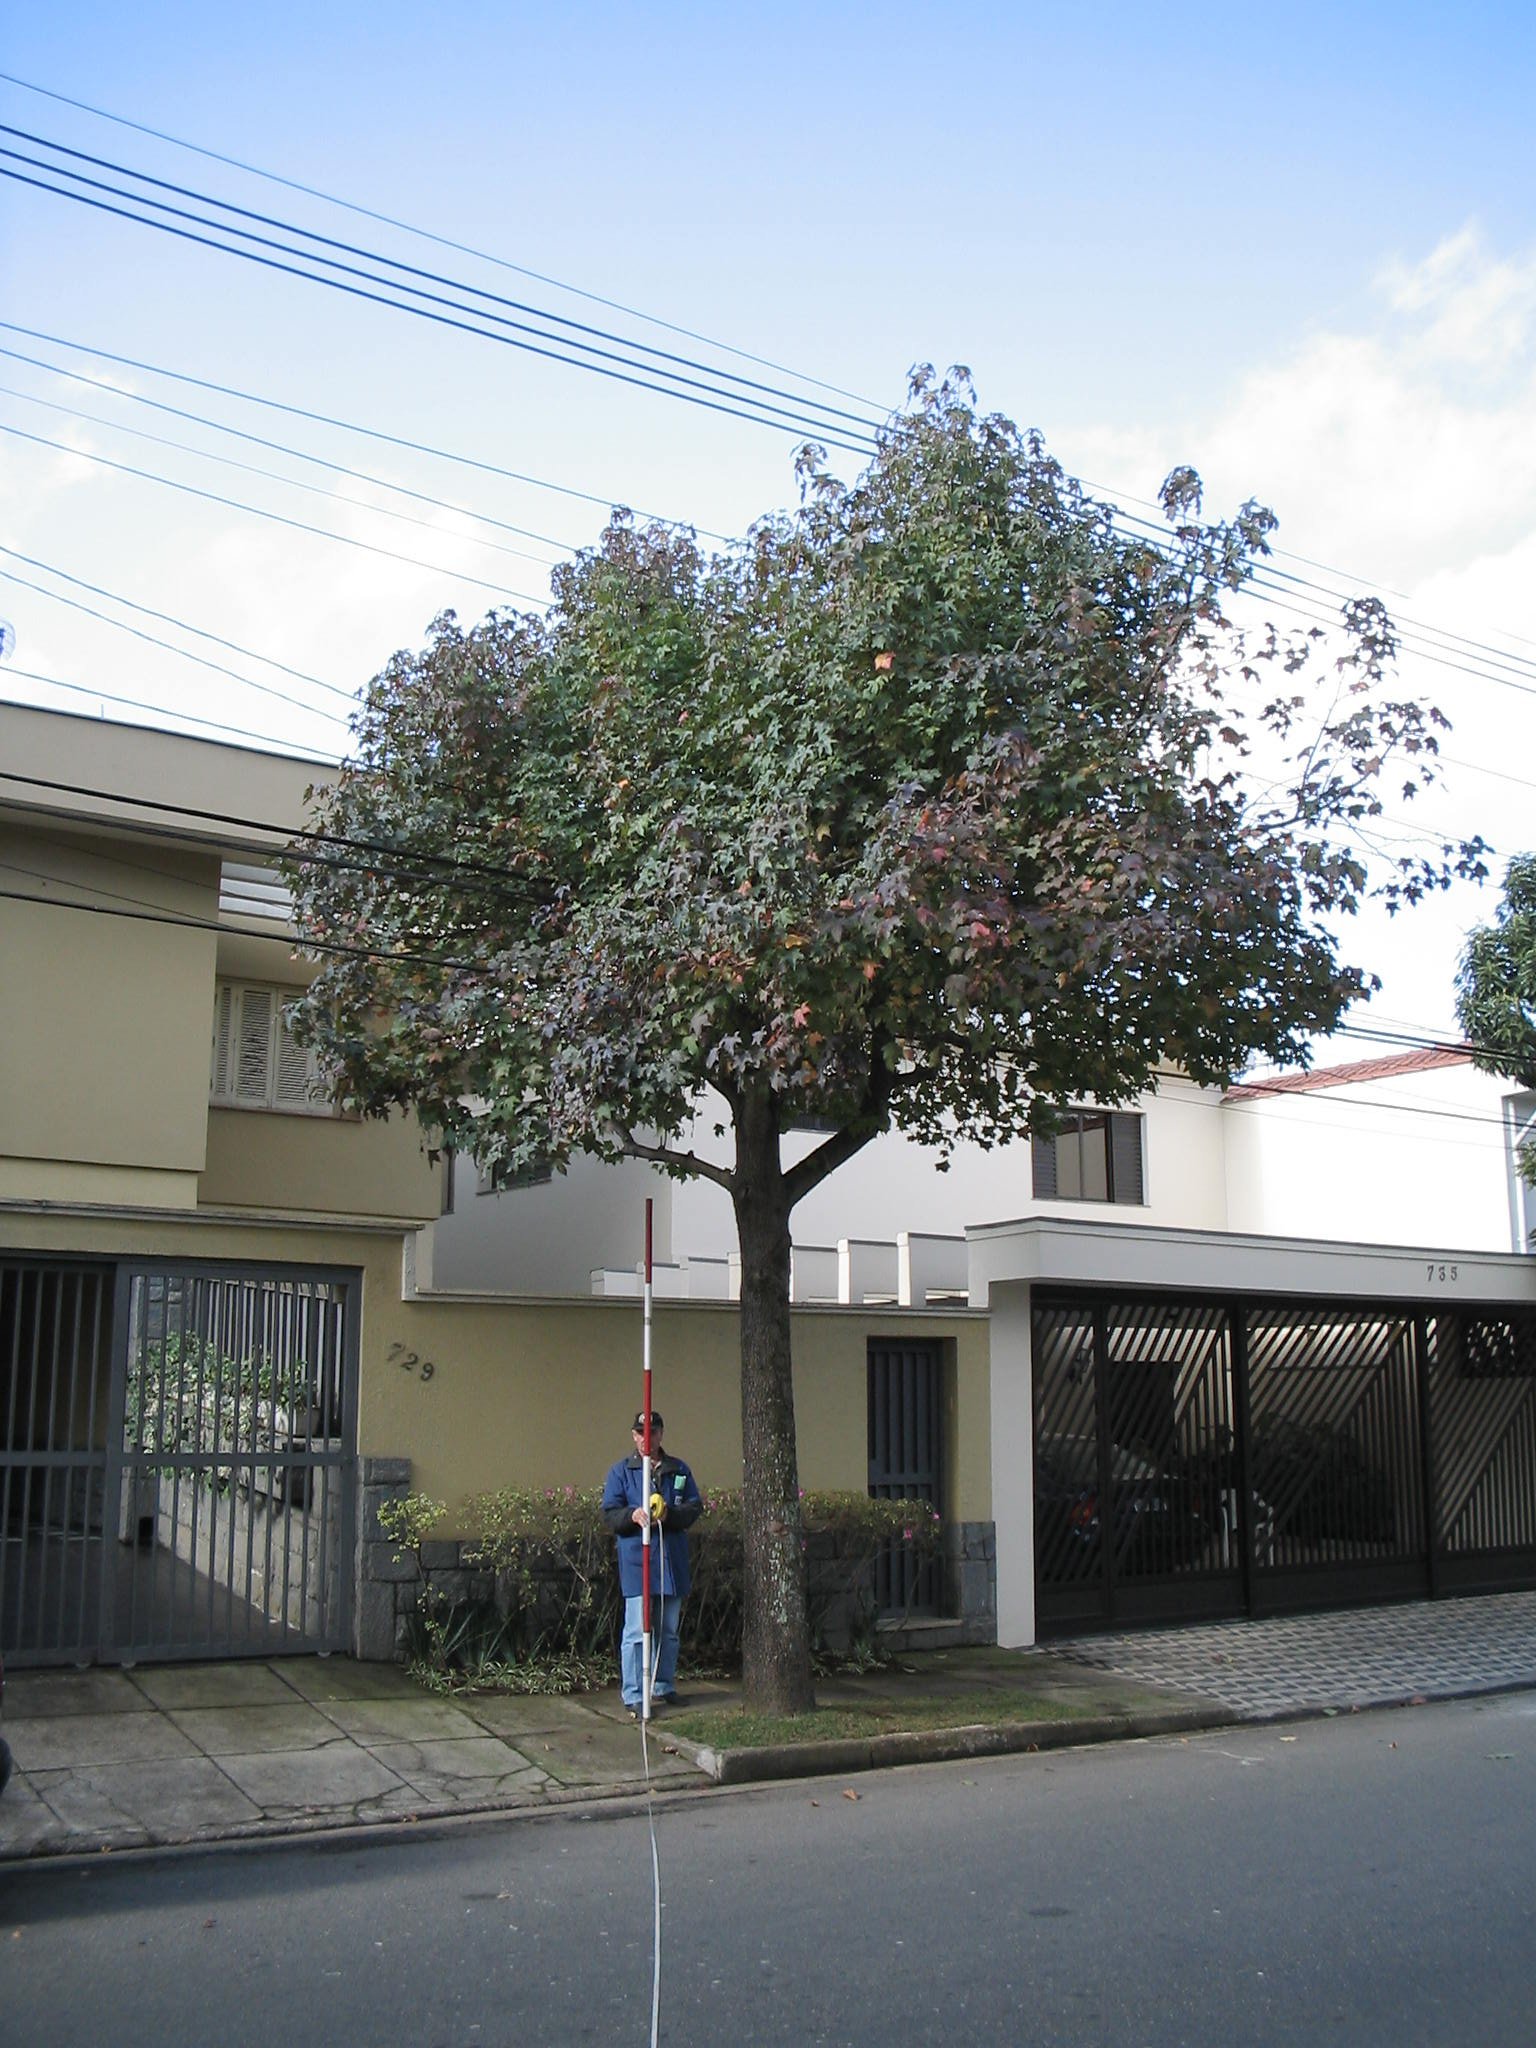crown: (279, 361, 1476, 1226)
stem: (712, 1209, 841, 1717)
stick: (624, 1201, 674, 1730)
tree: (269, 355, 1476, 1717)
